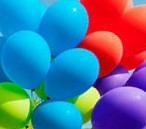Balloon: (1, 30, 52, 91), (44, 48, 100, 100), (91, 87, 146, 129), (32, 100, 83, 129), (1, 83, 31, 129)
